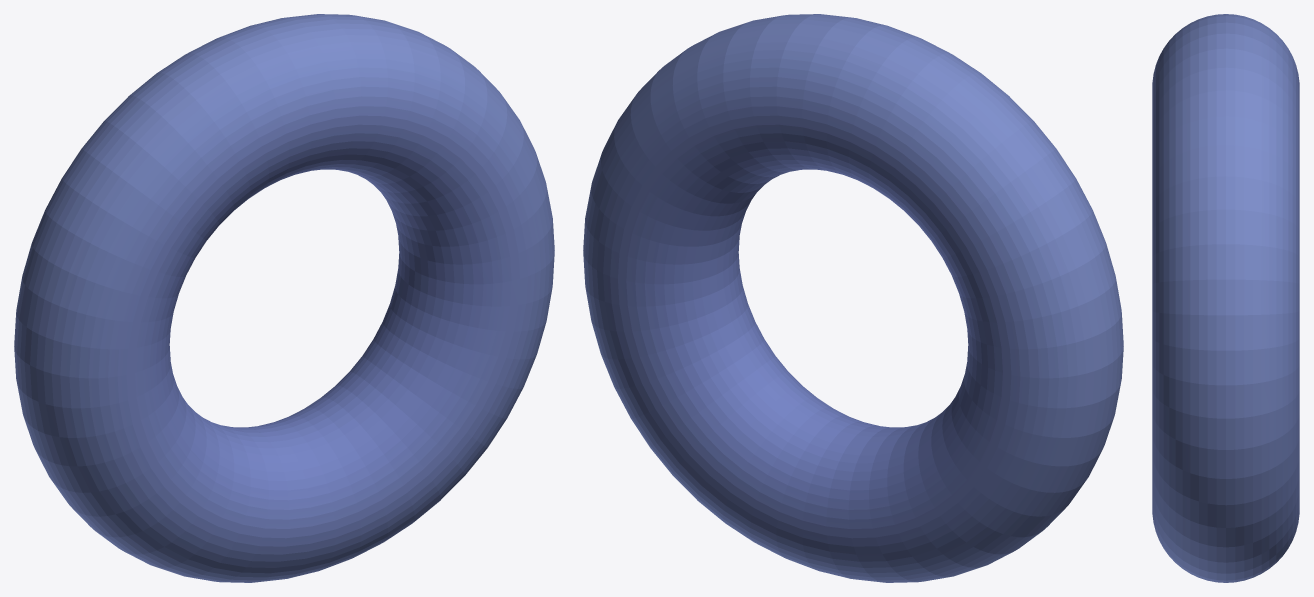
3 views of the same model, side by side, from view 1: azimuth 30°, elevation 25°; view 2: azimuth 150°, elevation 25°; view 3: azimuth 270°, elevation 25° (orthographic). The views are drawn at different scales.
Parts seen in each view (by area): view 1: world; view 2: world; view 3: world.
Part boxes in pixels (x1,y1,x2,y2): world: [14, 14, 554, 582]; world: [583, 14, 1123, 582]; world: [1152, 14, 1299, 582].
Bounding box in the file's own units: 18 × 17.96 × 4.66.
